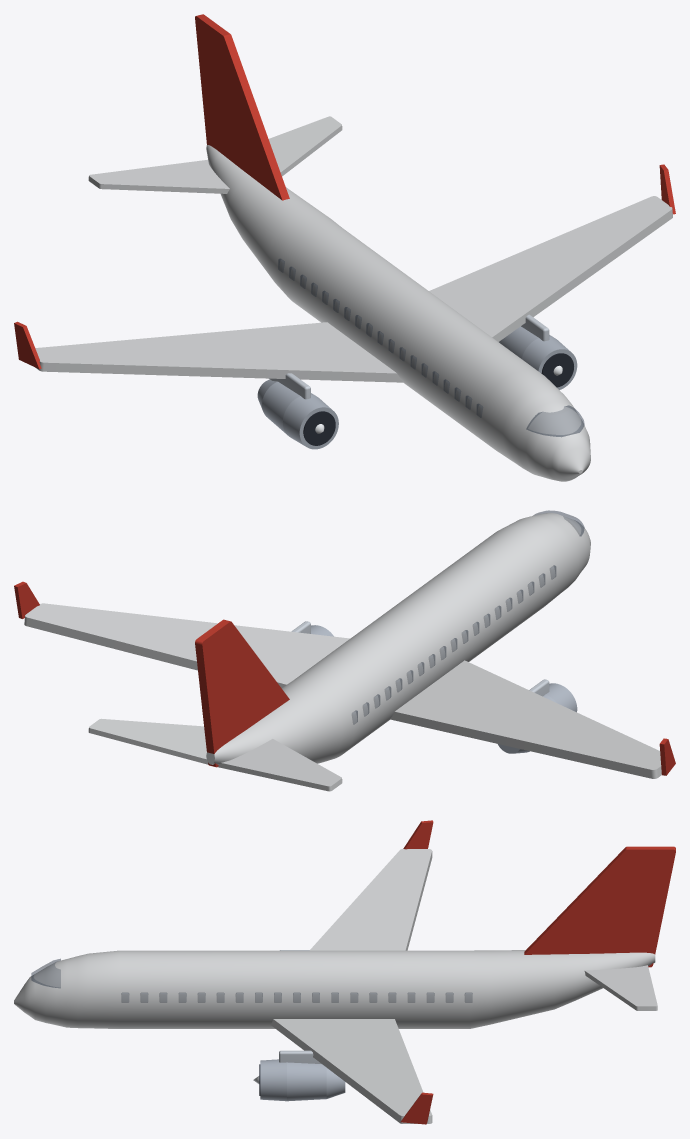
File: airliner.glb
3 renders of one model, top to bottom at view 1: azimuth 30°, elevation 25°; view 2: azimuth 150°, elevation 25°; view 3: azimuth 270°, elevation 25°, orthographic. The views are drawn at different scales.
Parts seen in each view (by area): view 1: Fuselage, Wing_R.001, Wing_R, Fin, Stab_R.001, Nacelle_L, Stab_R, Nacelle_R, Fuselage.001, Intake_L, Intake_R, Winglet_L; view 2: Fuselage, Wing_R.001, Wing_R, Fin, Stab_R, Stab_R.001, Nacelle_L, Winglet_R, Winglet_L; view 3: Fuselage, Fin, Wing_R, Wing_R.001, Nacelle_R, Stab_R, Winglet_R, Fuselage.001, Winglet_L, Pylon_R.
Boxes of the visible parts, x1,y1,x2,y2 form: Fuselage: (206, 145, 590, 481); Wing_R.001: (35, 322, 403, 382); Wing_R: (429, 196, 672, 341); Fin: (195, 14, 289, 200); Stab_R.001: (88, 159, 229, 193); Nacelle_L: (257, 379, 338, 449); Stab_R: (268, 116, 342, 176); Nacelle_R: (499, 326, 577, 389); Fuselage.001: (526, 405, 584, 436); Intake_L: (303, 411, 335, 445); Intake_R: (541, 353, 573, 387); Winglet_L: (14, 321, 41, 369); Fuselage: (206, 513, 590, 764); Wing_R.001: (390, 660, 661, 778); Wing_R: (24, 603, 349, 688); Fin: (195, 619, 289, 767); Stab_R: (88, 718, 208, 764); Stab_R.001: (218, 739, 342, 791); Nacelle_L: (498, 683, 577, 753); Winglet_R: (14, 581, 39, 618); Winglet_L: (659, 738, 675, 775); Fuselage: (14, 950, 655, 1028); Fin: (524, 846, 675, 967); Wing_R: (271, 1019, 432, 1123); Wing_R.001: (309, 849, 432, 950); Nacelle_R: (260, 1059, 345, 1101); Stab_R: (584, 965, 657, 1010); Winglet_R: (401, 1092, 433, 1124); Fuselage.001: (31, 959, 60, 987); Winglet_L: (403, 820, 433, 849); Pylon_R: (279, 1050, 321, 1063).
Size of the model in its own units: 12.28 by 4.18 by 12.49.
